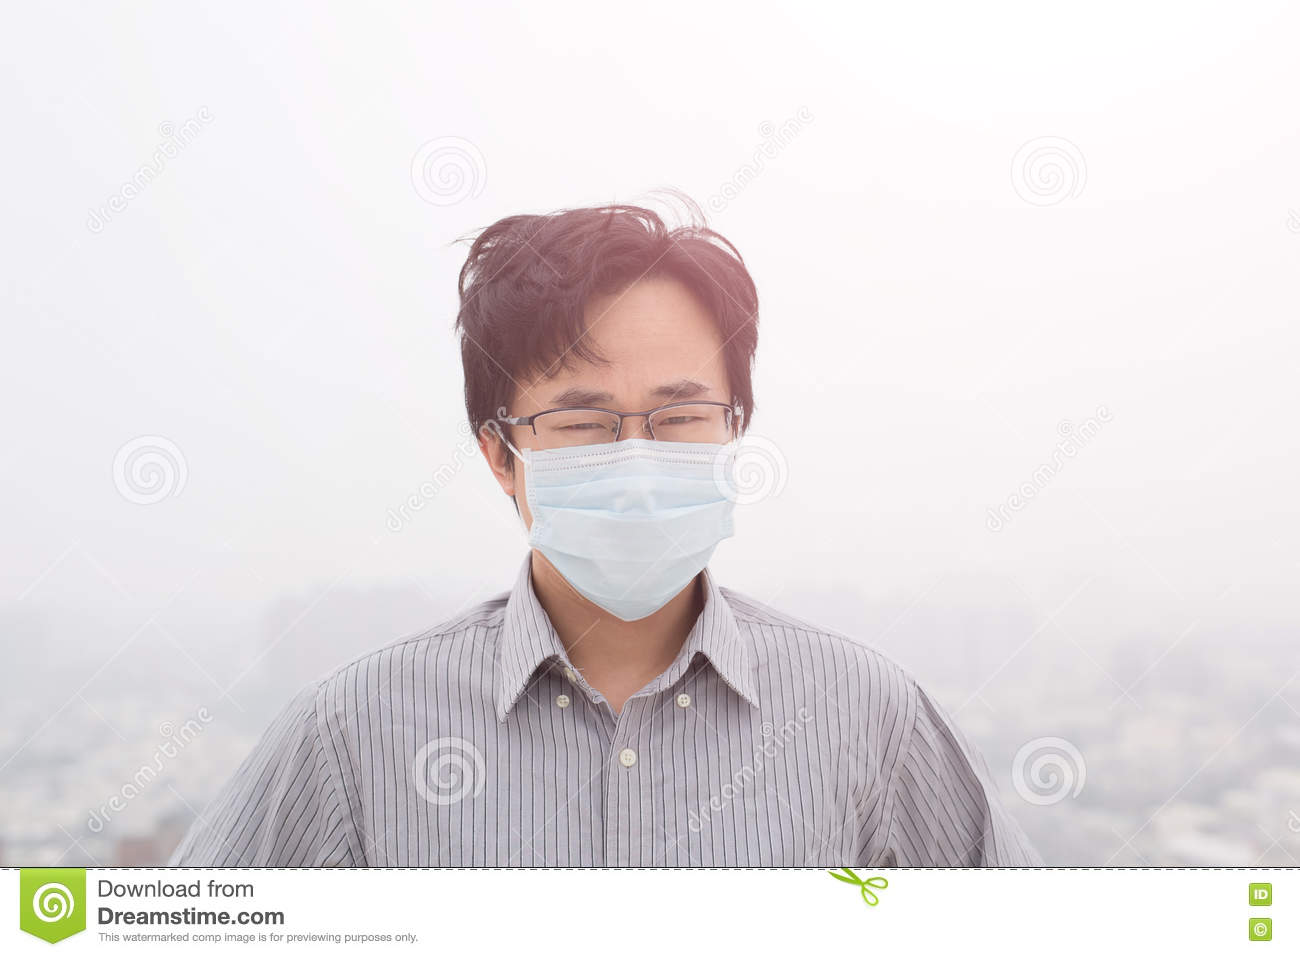mask: (514, 444, 756, 599)
